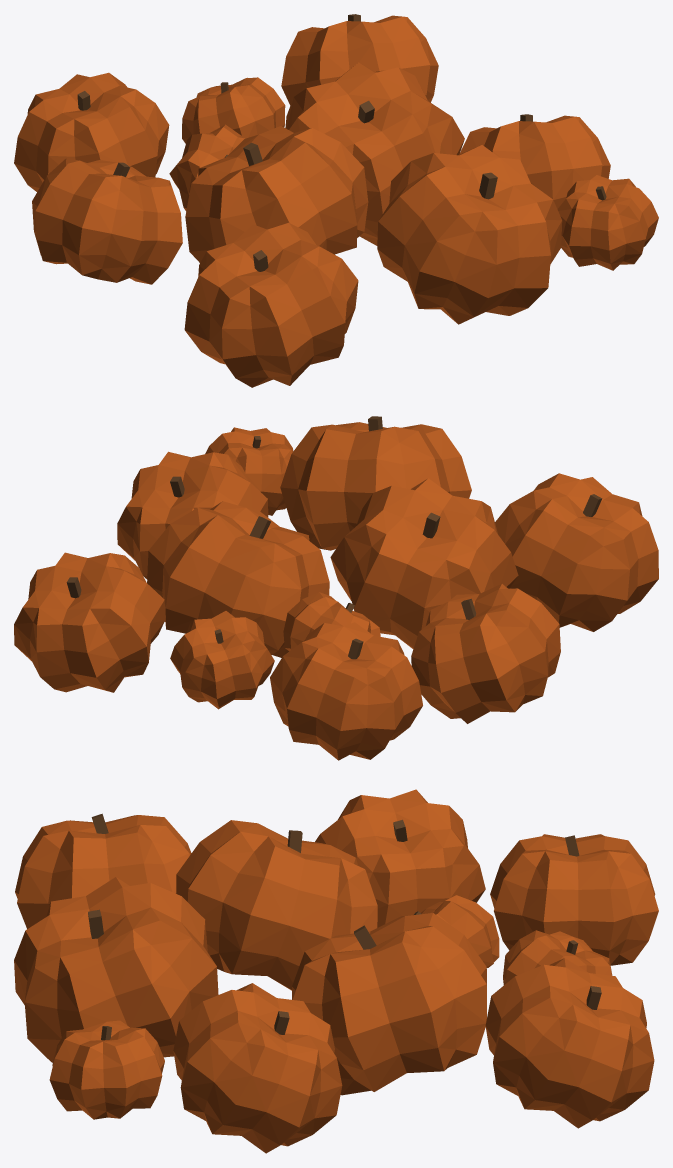
The model's file is Ready_Pumpkin.fbx.
The picture shows the model from 3 angles, top to bottom: view 1: azimuth 30°, elevation 25°; view 2: azimuth 150°, elevation 25°; view 3: azimuth 270°, elevation 25°; orthographic projection. The views are drawn at different scales.
Visible parts, largest first — view 1: Ready_Pumpkin; view 2: Ready_Pumpkin; view 3: Ready_Pumpkin.
Part boxes in pixels (left/top/right/bottom): Ready_Pumpkin: left=14, top=14, right=658, bottom=387; Ready_Pumpkin: left=14, top=416, right=658, bottom=760; Ready_Pumpkin: left=14, top=789, right=658, bottom=1153.
Bounding box in the file's own units: 100 × 31.73 × 100.
